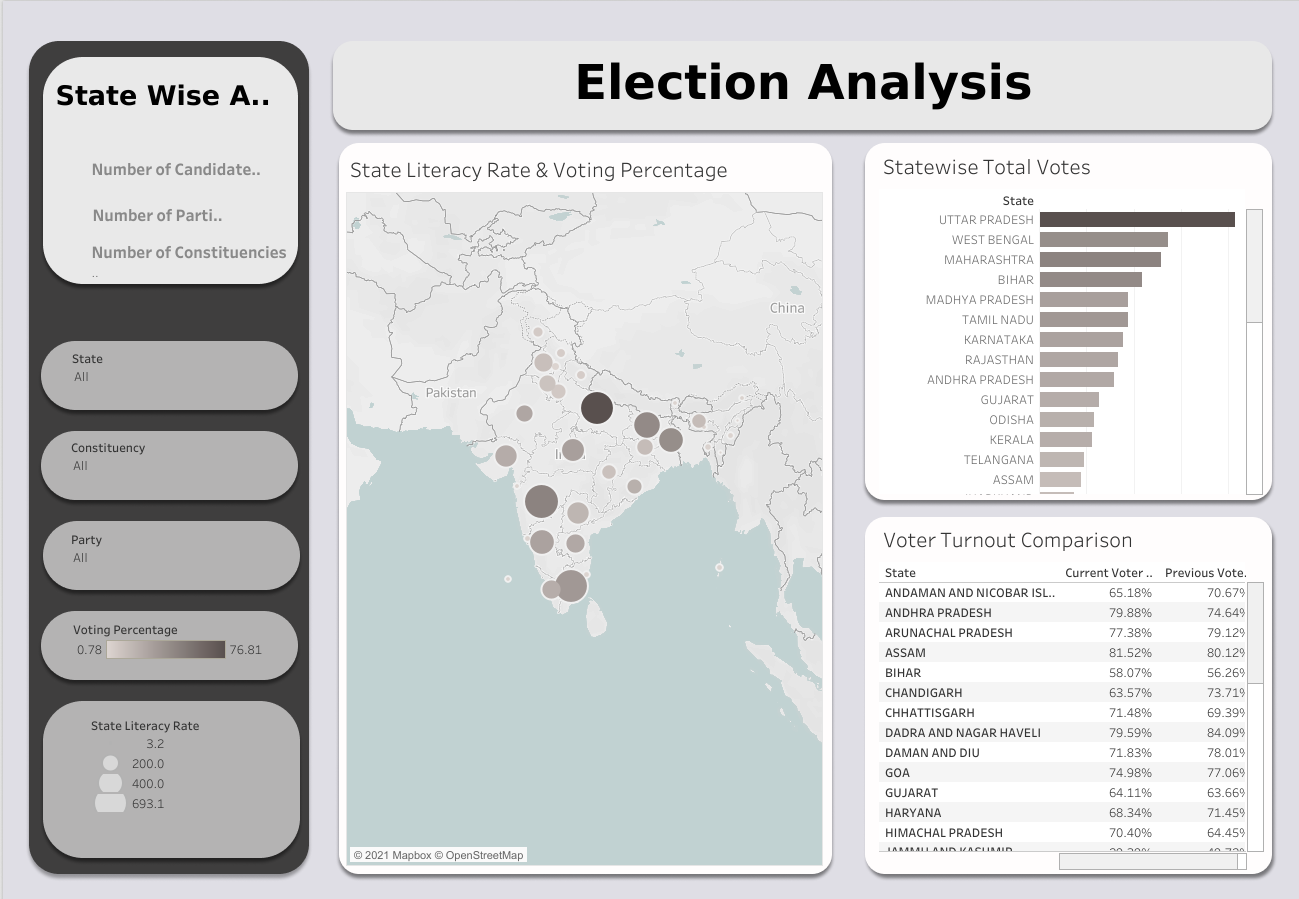

The dashboard page shown, as its layout file describes it:
{"tool":"tableau","page":{"name":"State Wise Analysis","canvas":[1300,900],"ordinal":2},"visuals":[{"type":"worksheet","box":[334,22,939,120]},{"type":"worksheet","box":[53,69,234,52]},{"type":"worksheet","box":[89,146,174,44]},{"type":"worksheet","title":"Statewise Total Votes","mark":"Automatic","rows":["STATE"],"cols":["TOTAL_VOTES"],"box":[879,146,384,348]},{"type":"worksheet","title":"State Literacy Rate & Voting Percentage","mark":"Shape","box":[346,149,477,717]},{"type":"worksheet","box":[90,192,143,44]},{"type":"worksheet","box":[89,238,201,44]},{"type":"worksheet","title":"Statewise Total Votes","mark":"Automatic","rows":["STATE"],"cols":["TOTAL_VOTES"],"param":"[federated.03wtox413rziv816c25zp0kh4i3t].[none:STATE:nk]","box":[72,348,186,57]},{"type":"worksheet","title":"Statewise Total Votes","mark":"Automatic","rows":["STATE"],"cols":["TOTAL_VOTES"],"param":"[federated.03wtox413rziv816c25zp0kh4i3t].[none:CONSTITUENCY:nk]","box":[71,437,189,55]},{"type":"worksheet","title":"Voter Turnout Comparison","mark":"Automatic","rows":["STATE"],"box":[879,519,385,351]},{"type":"worksheet","title":"Statewise Total Votes","mark":"Automatic","rows":["STATE"],"cols":["TOTAL_VOTES"],"param":"[federated.03wtox413rziv816c25zp0kh4i3t].[none:PARTY:nk]","box":[71,529,189,56]},{"type":"worksheet","title":"State Literacy Rate & Voting Percentage","mark":"Shape","param":"[federated.03wtox413rziv816c25zp0kh4i3t].[sum:VOTING_PERCENTAGE:qk]","box":[73,616,194,60]},{"type":"worksheet","title":"State Literacy Rate & Voting Percentage","mark":"Shape","param":"[federated.03wtox413rziv816c25zp0kh4i3t].[sum:STATE_LITERACY_RATE:qk]","box":[90,714,163,138]}]}

Visuals, with their boxes in screenshot pixels (x1, y1, x2, y2), scaled from the page's 1300x900 canvas onto the 1299x899 screenshot:
worksheet: <region>334, 22, 1272, 142</region>
worksheet: <region>53, 69, 287, 121</region>
worksheet: <region>89, 146, 263, 190</region>
"Statewise Total Votes" worksheet: <region>878, 146, 1262, 493</region>
"State Literacy Rate & Voting Percentage" worksheet (Shape marks): <region>346, 149, 822, 865</region>
worksheet: <region>90, 192, 233, 236</region>
worksheet: <region>89, 238, 290, 282</region>
"Statewise Total Votes" worksheet: <region>72, 348, 258, 405</region>
"Statewise Total Votes" worksheet: <region>71, 437, 260, 491</region>
"Voter Turnout Comparison" worksheet: <region>878, 518, 1263, 869</region>
"Statewise Total Votes" worksheet: <region>71, 528, 260, 584</region>
"State Literacy Rate & Voting Percentage" worksheet (Shape marks): <region>73, 615, 267, 675</region>
"State Literacy Rate & Voting Percentage" worksheet (Shape marks): <region>90, 713, 253, 851</region>
